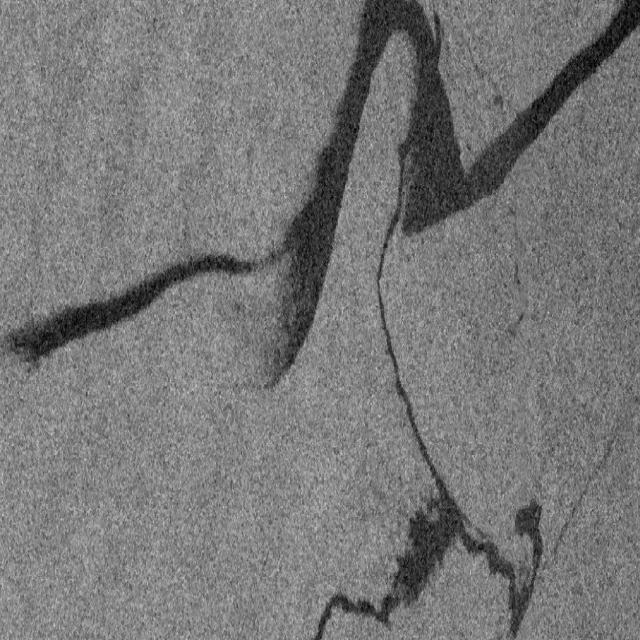oil-spill: (279, 3, 373, 372), (8, 246, 277, 369), (474, 6, 639, 202), (378, 5, 470, 231), (376, 248, 457, 497), (454, 508, 546, 640), (370, 508, 460, 628)
